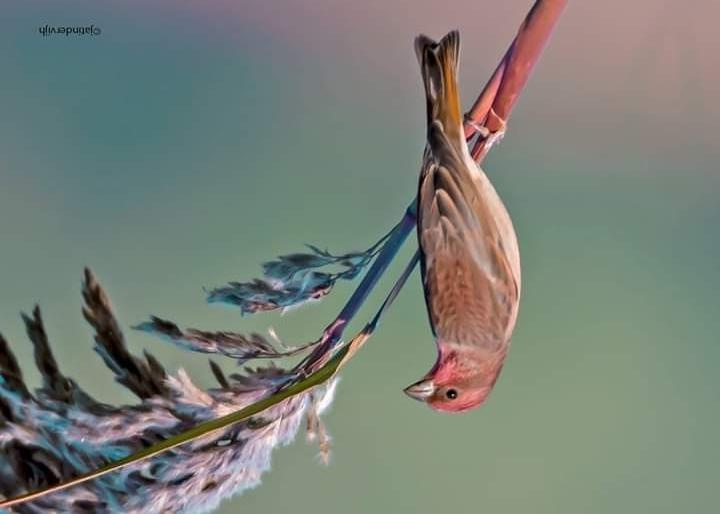rosefinch: (396, 14, 512, 418)
